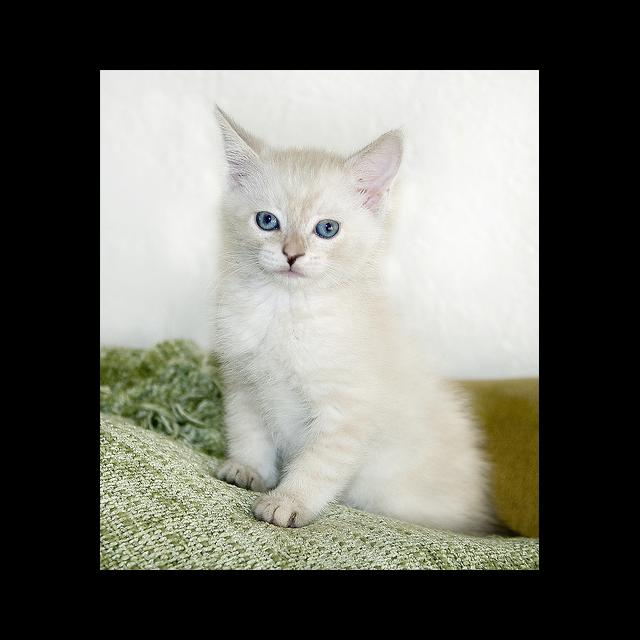animals: (218, 106, 400, 259)
